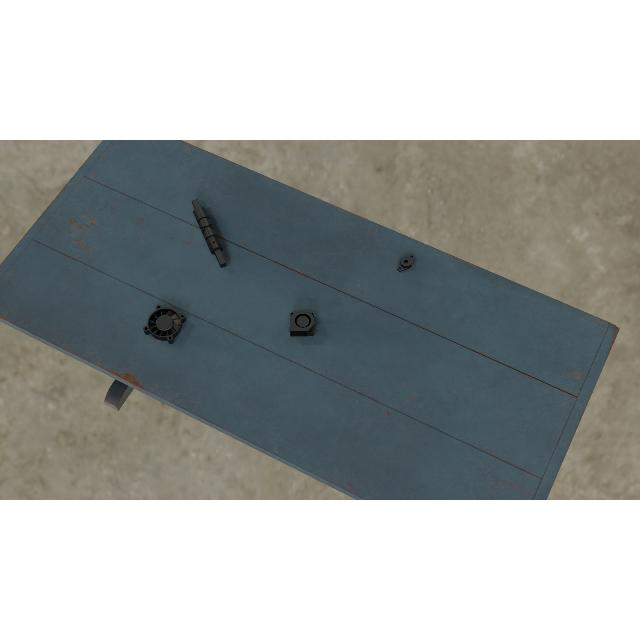Pieza1: (188, 196, 230, 270)
Pieza2: (393, 250, 419, 274)
Pieza3: (290, 309, 314, 336)
Pieza4: (142, 303, 188, 345)
